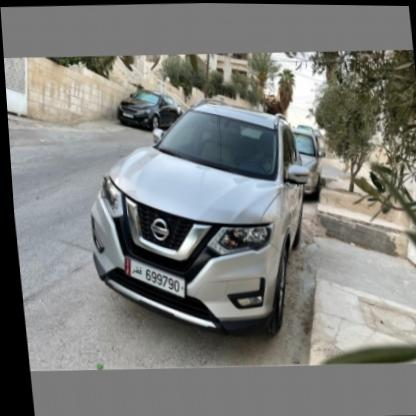np: (118, 251, 185, 304)
